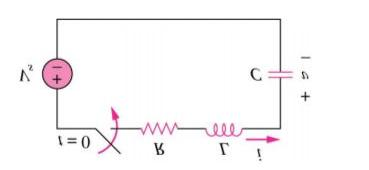inductor: (198, 113, 249, 136)
